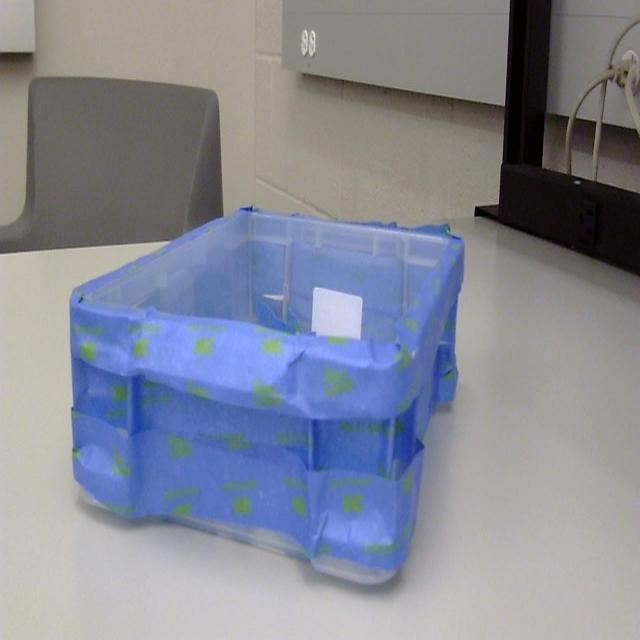bucket: (68, 207, 465, 592)
